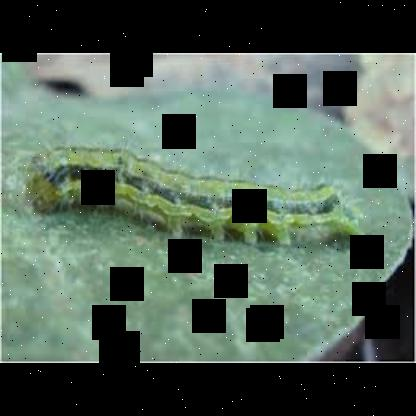oruga: (22, 141, 362, 249)
